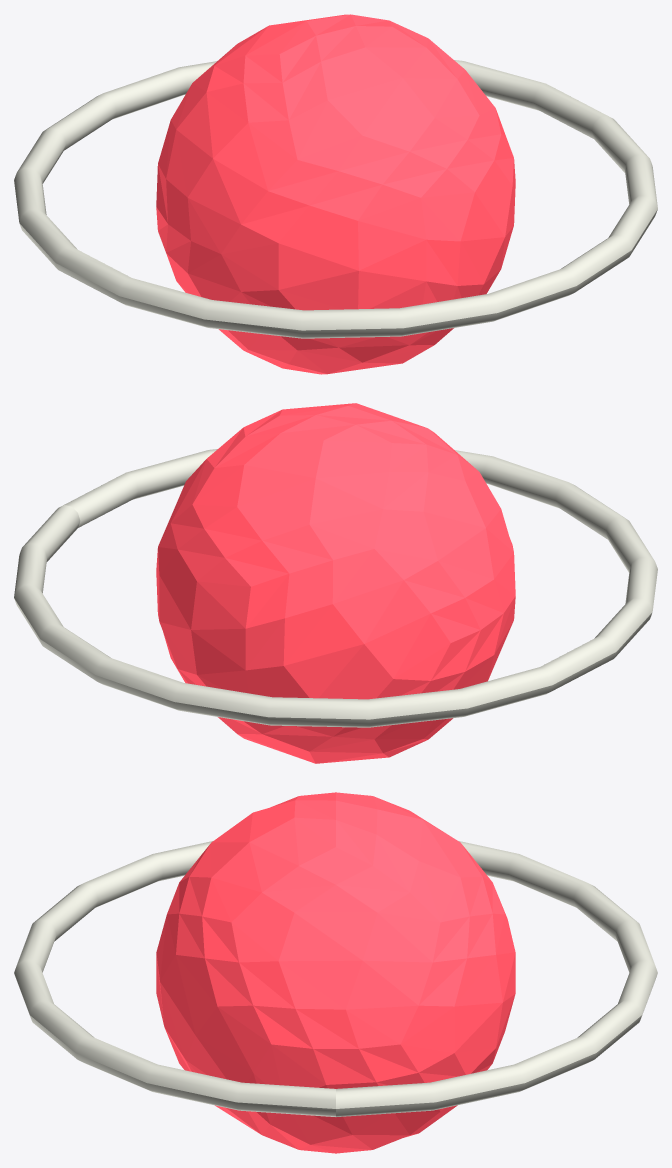
File: pickup-bomb.glb
3 renders of one model, top to bottom at view 1: azimuth 30°, elevation 25°; view 2: azimuth 150°, elevation 25°; view 3: azimuth 270°, elevation 25°, orthographic.
Parts seen in each view (by area): view 1: pickup_core, capture_ring; view 2: pickup_core, capture_ring; view 3: pickup_core, capture_ring.
Part boxes in pixels (x1,y1,x2,y2): pickup_core: (156,14,515,374); capture_ring: (14,60,657,338); pickup_core: (156,403,515,763); capture_ring: (14,449,657,727); pickup_core: (156,792,515,1153); capture_ring: (14,841,657,1116).
Size of the model in its own units: 498 by 278 by 498.
